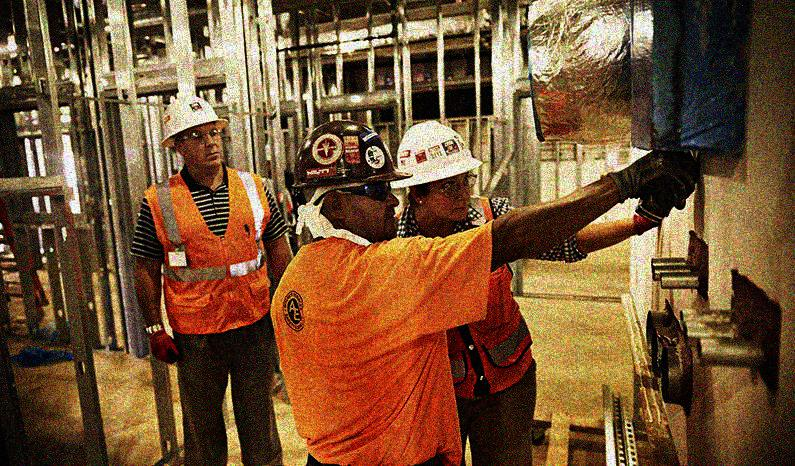helmet: (293, 118, 410, 238), (391, 119, 485, 221), (159, 96, 229, 170)
